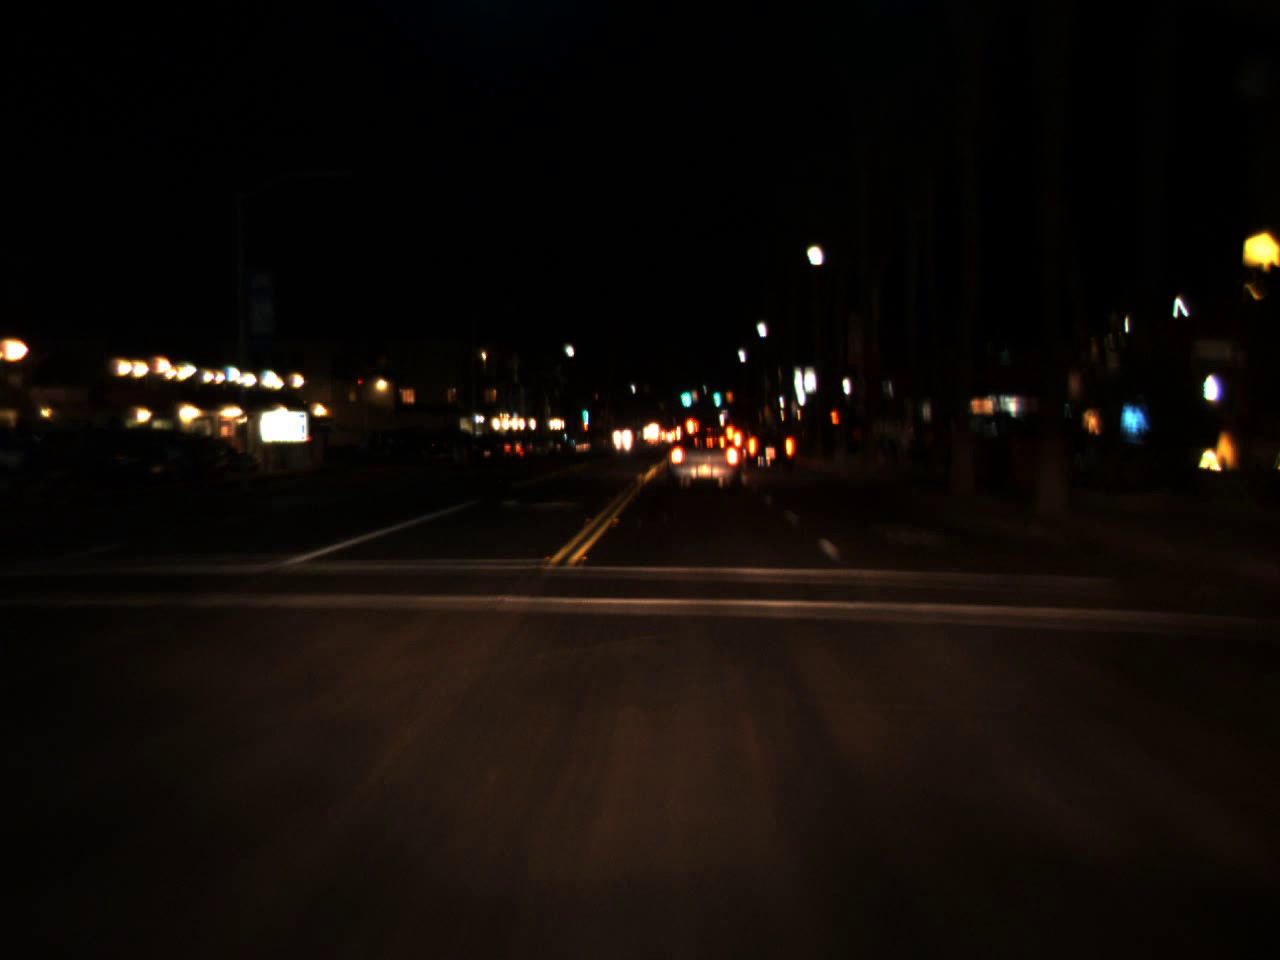go: (677, 376, 693, 409), (710, 379, 722, 406), (580, 397, 587, 424)
